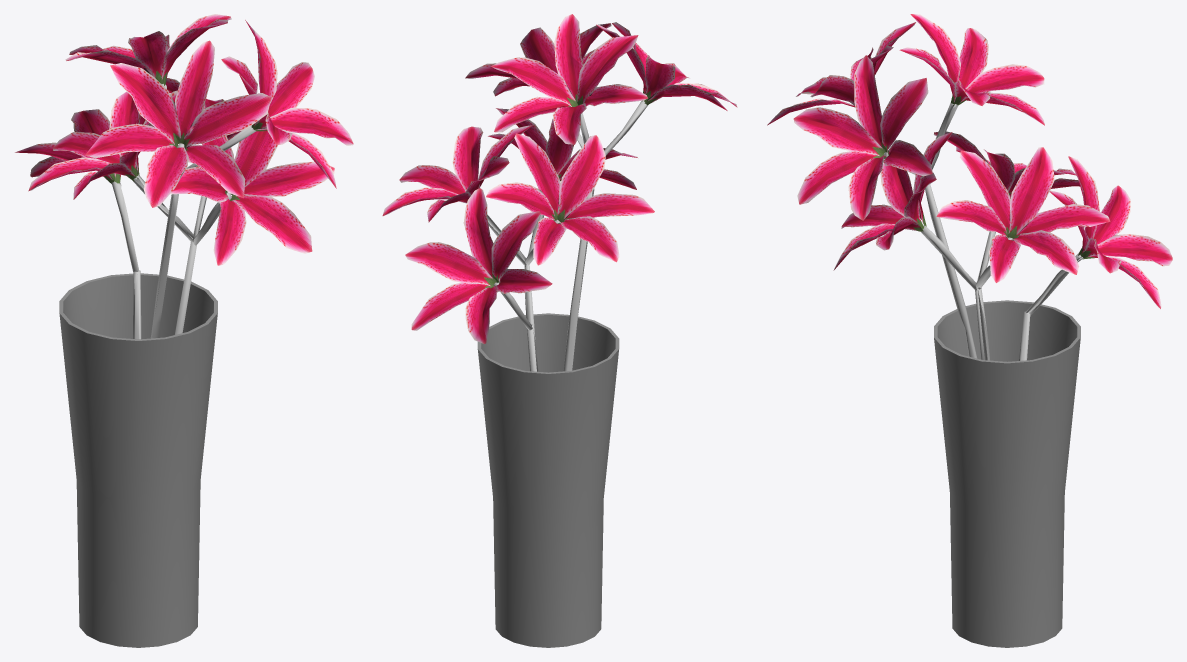
File: Flowers.fbx
The picture shows the model from 3 angles, left to right: view 1: azimuth 30°, elevation 25°; view 2: azimuth 150°, elevation 25°; view 3: azimuth 270°, elevation 25°; orthographic projection. The views are drawn at different scales.
Visible parts, largest first — view 1: vase, flowers; view 2: flowers, vase; view 3: flowers, vase.
Part boxes in pixels (bbox=[...]): vase: bbox=[59, 273, 217, 647]; flowers: bbox=[15, 14, 353, 339]; flowers: bbox=[382, 14, 737, 371]; vase: bbox=[477, 313, 619, 647]; flowers: bbox=[767, 14, 1172, 360]; vase: bbox=[934, 300, 1080, 647].
Bounding box in the file's own units: 21.97 × 44.29 × 27.71.
